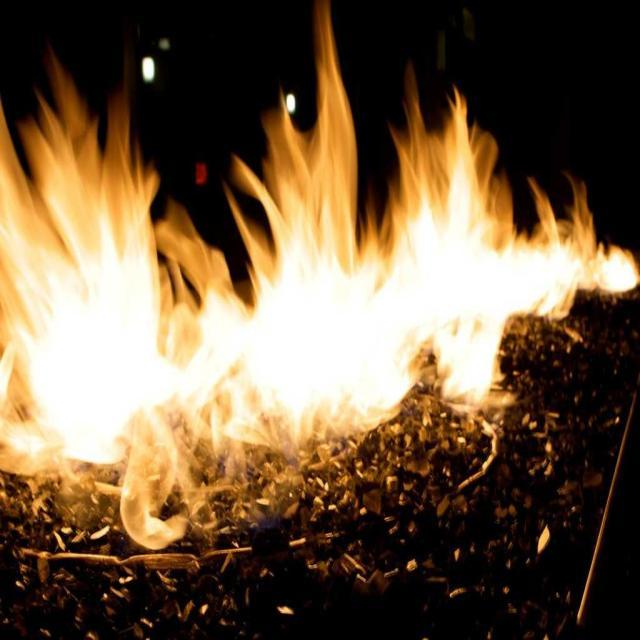Fire: (0, 170, 137, 466), (260, 257, 486, 394)
